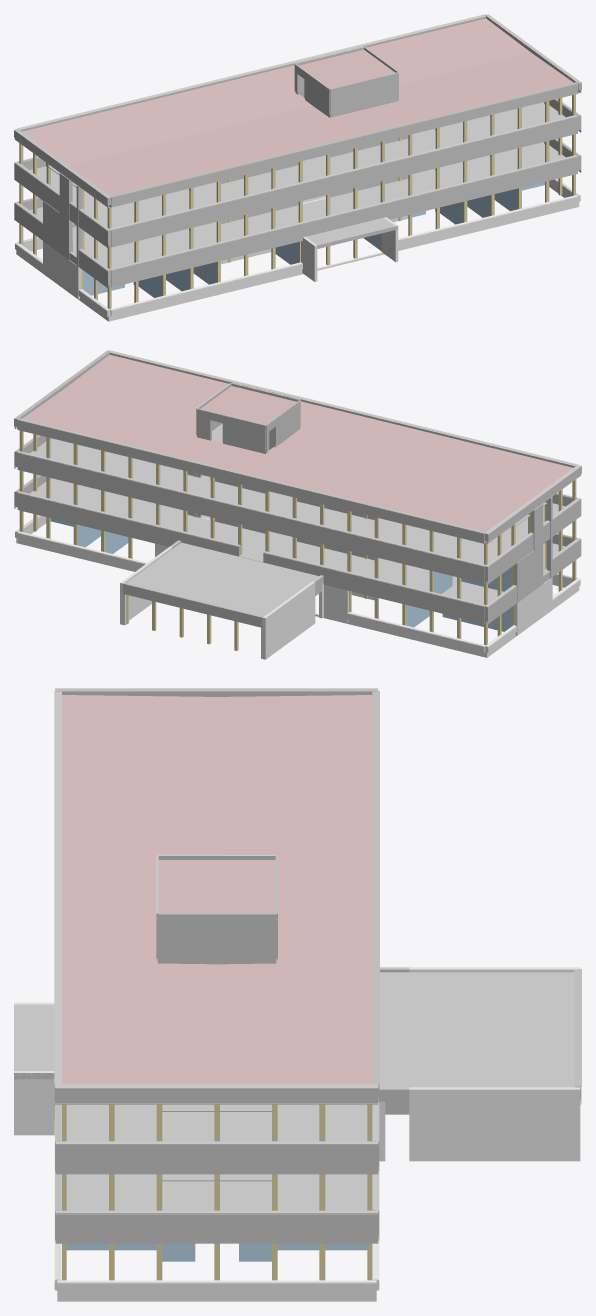
3 renders of one model, top to bottom at view 1: azimuth 30°, elevation 25°; view 2: azimuth 150°, elevation 25°; view 3: azimuth 270°, elevation 25°, orthographic. The views are drawn at different scales.
Visible parts, largest first — view 1: 3DGeom-1, 3DGeom-3, 3DGeom-307, 3DGeom-61, 3DGeom-652, 3DGeom-674, 3DGeom-675, 3DGeom-2, 3DGeom-653, 3DGeom-404, 3DGeom-9, 3DGeom-70 (+18 smaller); view 2: 3DGeom-1, 3DGeom-307, 3DGeom-61, 3DGeom-611, 3DGeom-695, 3DGeom-8, 3DGeom-167, 3DGeom-3, 3DGeom-694, 3DGeom-2, 3DGeom-614, 3DGeom-9 (+21 smaller); view 3: 3DGeom-1, 3DGeom-611, 3DGeom-1499, 3DGeom-307, 3DGeom-61, 3DGeom-3, 3DGeom-2, 3DGeom-9, 3DGeom-589, 3DGeom-600, 3DGeom-4, 3DGeom-590 (+15 smaller).
Part boxes in pixels (x1,y1,x2,y2): 3DGeom-1: (22,18,573,195); 3DGeom-3: (14,14,577,207); 3DGeom-307: (30,102,565,245); 3DGeom-61: (30,142,565,285); 3DGeom-652: (111,156,577,280); 3DGeom-674: (111,116,577,240); 3DGeom-675: (111,127,577,247); 3DGeom-2: (294,46,398,115); 3DGeom-653: (111,167,577,287); 3DGeom-404: (110,203,577,320); 3DGeom-9: (299,49,394,93); 3DGeom-70: (43,241,81,299); 3DGeom-1: (22,354,572,531); 3DGeom-307: (30,438,565,581); 3DGeom-61: (30,478,565,621); 3DGeom-611: (127,542,318,616); 3DGeom-695: (17,453,484,576); 3DGeom-8: (17,420,484,543); 3DGeom-167: (17,493,484,617); 3DGeom-3: (17,351,581,543); 3DGeom-694: (17,463,484,583); 3DGeom-2: (196,383,300,452); 3DGeom-614: (17,503,484,623); 3DGeom-9: (200,386,296,428); 3DGeom-1: (62,695,372,1084); 3DGeom-611: (379,972,574,1087); 3DGeom-1499: (411,1101,571,1161); 3DGeom-307: (66,1104,367,1141); 3DGeom-61: (66,1174,367,1210); 3DGeom-3: (54,688,379,1101); 3DGeom-2: (156,854,278,960); 3DGeom-9: (157,860,275,921); 3DGeom-589: (55,1214,378,1232); 3DGeom-600: (55,1144,378,1162); 3DGeom-4: (55,1088,378,1103); 3DGeom-590: (55,1232,378,1243).
Bounding box in the file's own units: 45.93 × 13.94 × 27.57.
